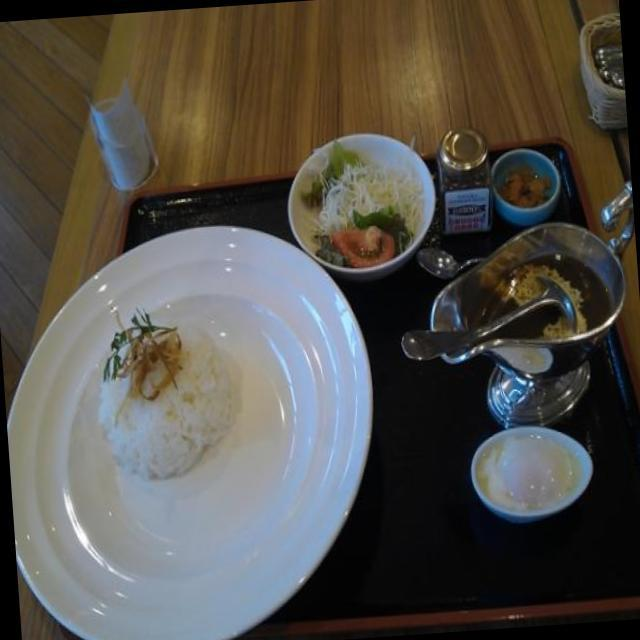Rice: (89, 297, 248, 485)
